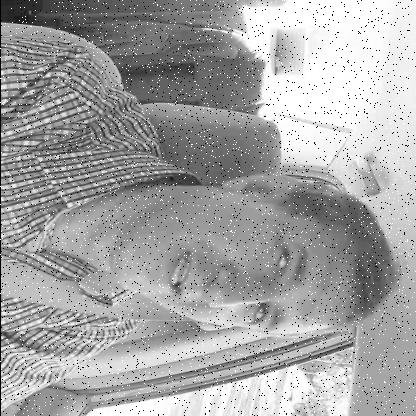seatbelt: (0, 173, 408, 337)
